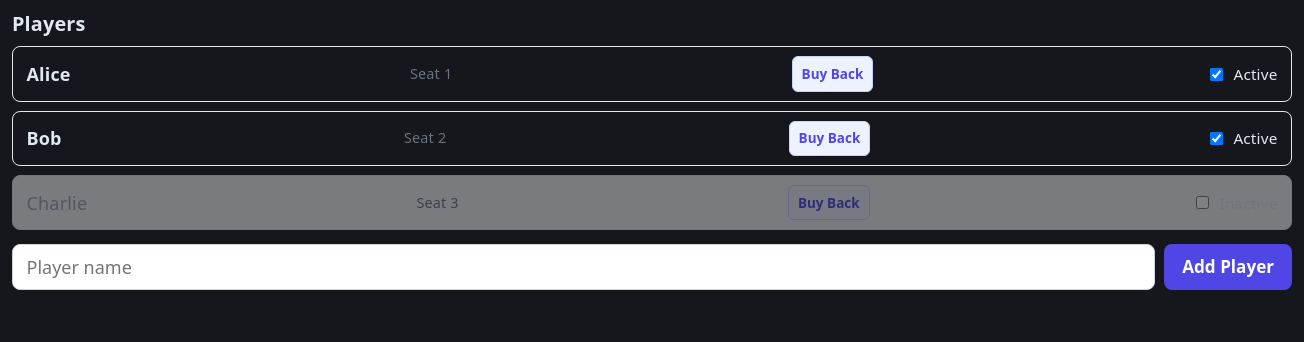
it: GamePlayerManagement › shows inline error when add fails
The width and height of the screenshot is (1304, 342).
Expected: the text "Alice" is shown, x1=26 y1=61 x2=71 y2=87
Type "Alice" into the field with placeholder "Player name" at (584, 267), box x1=12 y1=244 x2=1155 y2=290
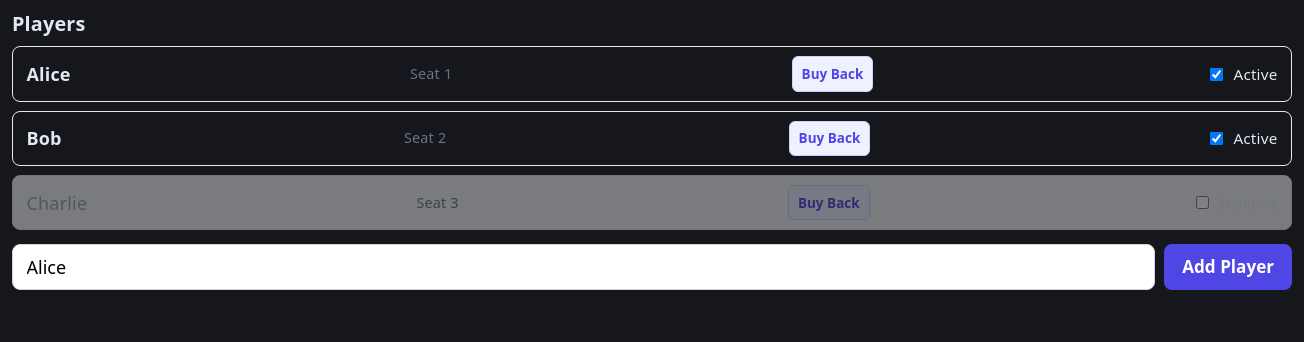
Click the button with test id "add-player-btn" at (1228, 267), box x1=1164 y1=244 x2=1292 y2=290
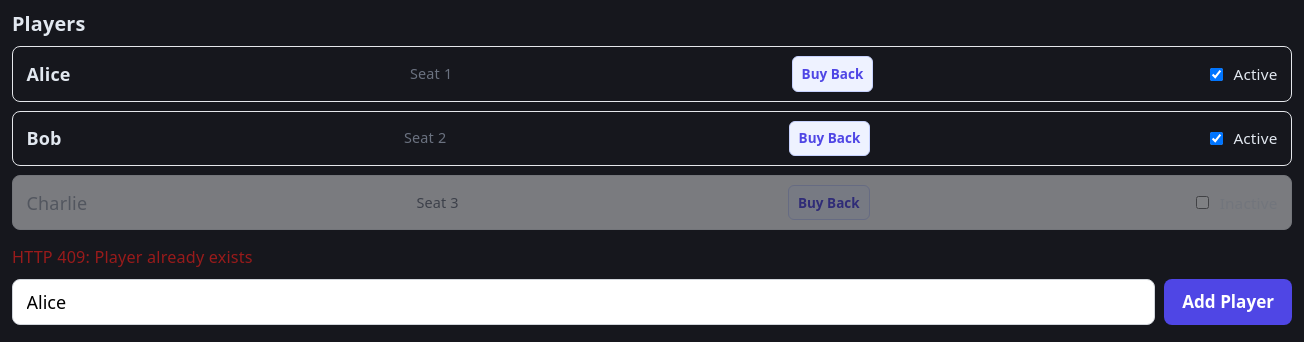
Expected: the text "HTTP 409: Player already exists" is shown, x1=12 y1=246 x2=253 y2=268
